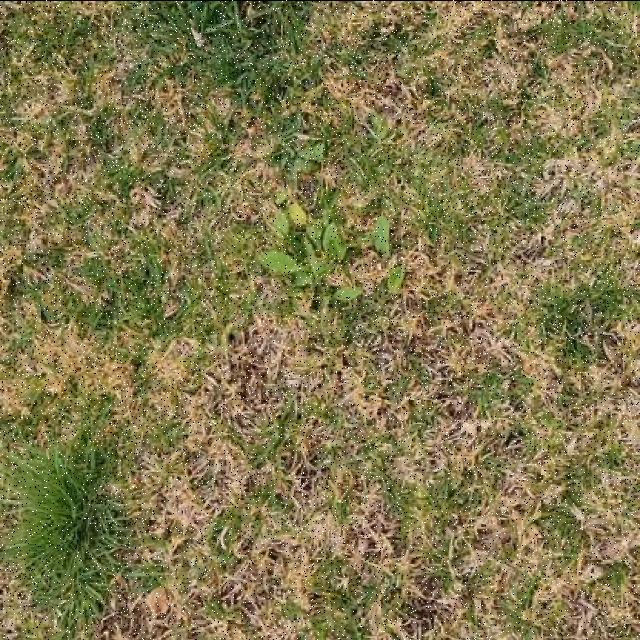weed: (260, 202, 350, 285), (371, 214, 392, 255), (334, 285, 362, 300), (391, 265, 405, 288)
